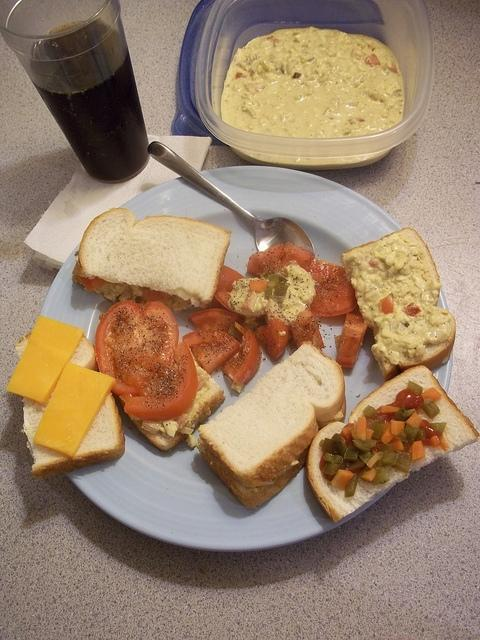tomato: (119, 341, 198, 421), (306, 259, 358, 317), (182, 330, 240, 374), (224, 329, 261, 383), (334, 310, 367, 368), (256, 318, 290, 361), (188, 308, 243, 334), (292, 310, 325, 350), (247, 244, 285, 278), (216, 264, 244, 310), (279, 242, 314, 278)
